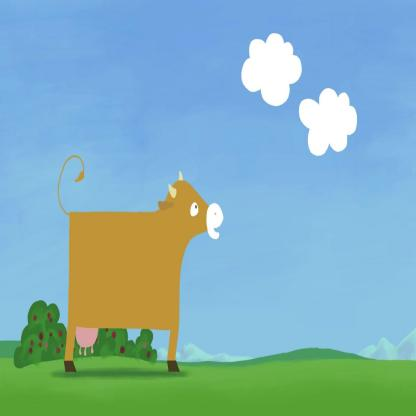cow: (65, 183, 224, 372)
